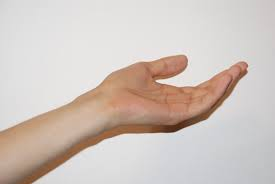hand: (80, 34, 259, 147)
